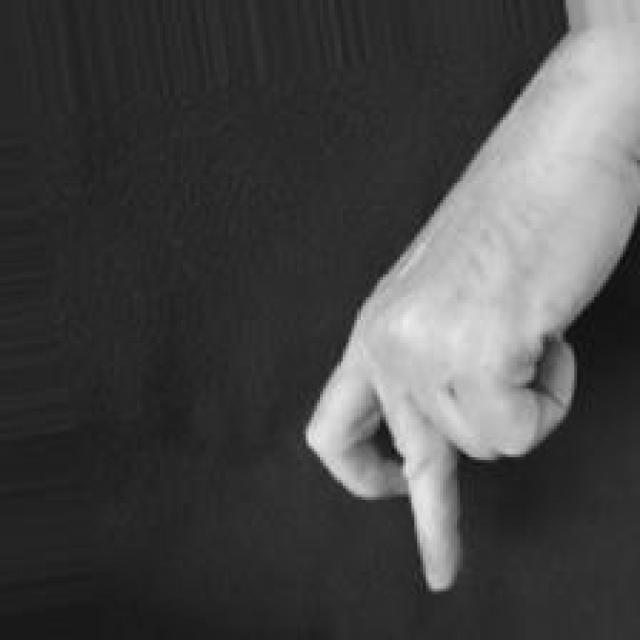P: (294, 135, 638, 601)
